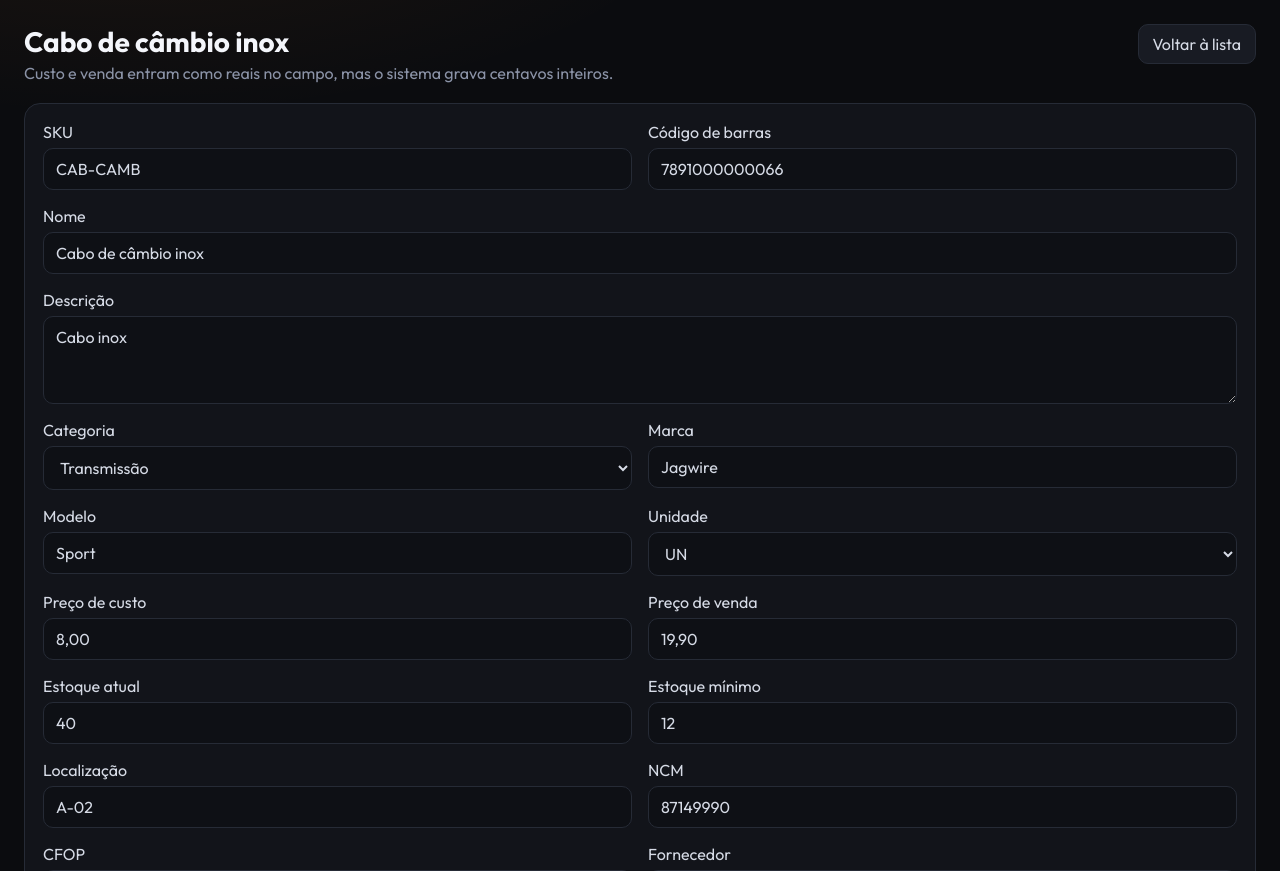
Ficha da peça › salva alterações sem voltar para a lista
Replace the text in the field labelled "Nome" with "Cabo inox revisado": [640, 253] box top-left (43, 232), bottom-right (1237, 274)
(page scrolled)
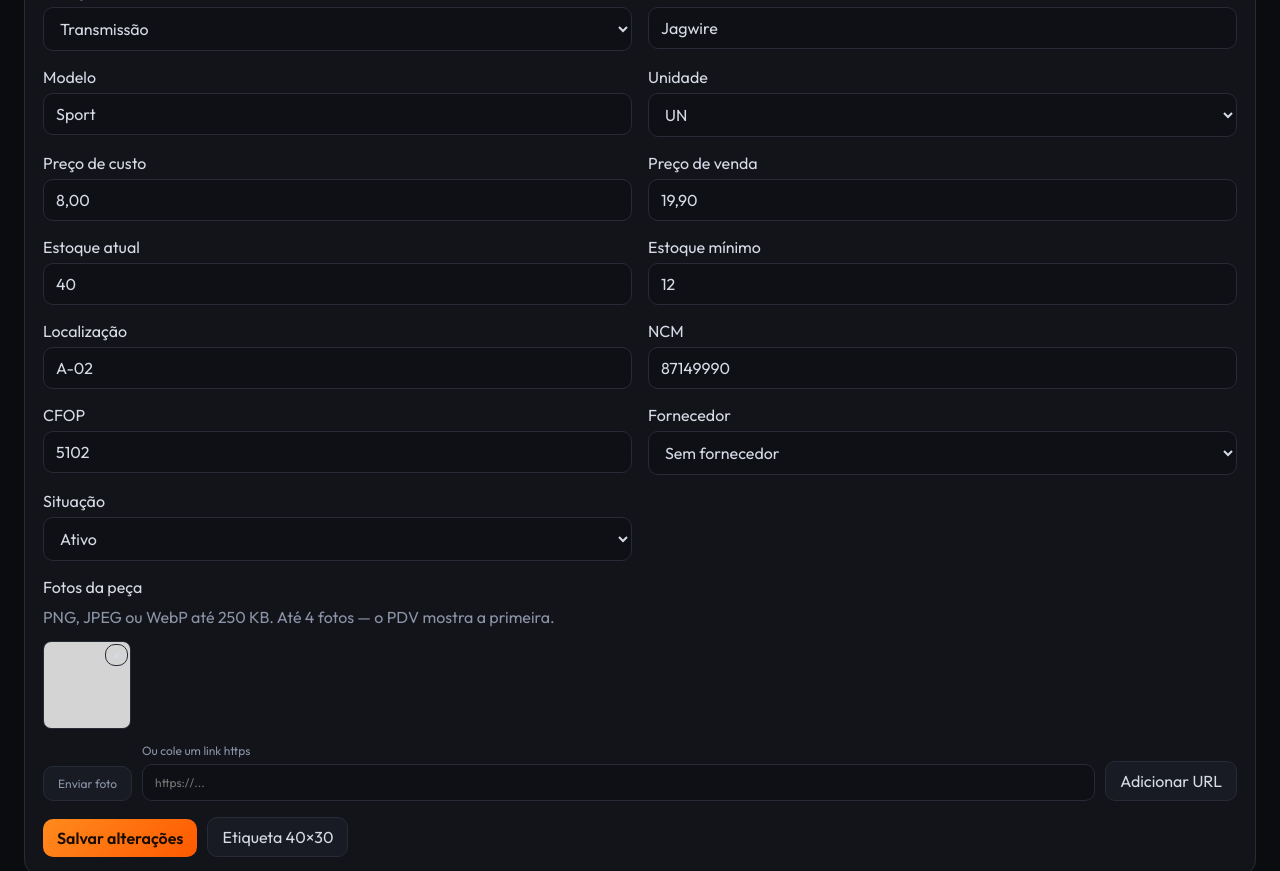
Click the button "Salvar alterações": [120, 838] box top-left (43, 819), bottom-right (198, 857)
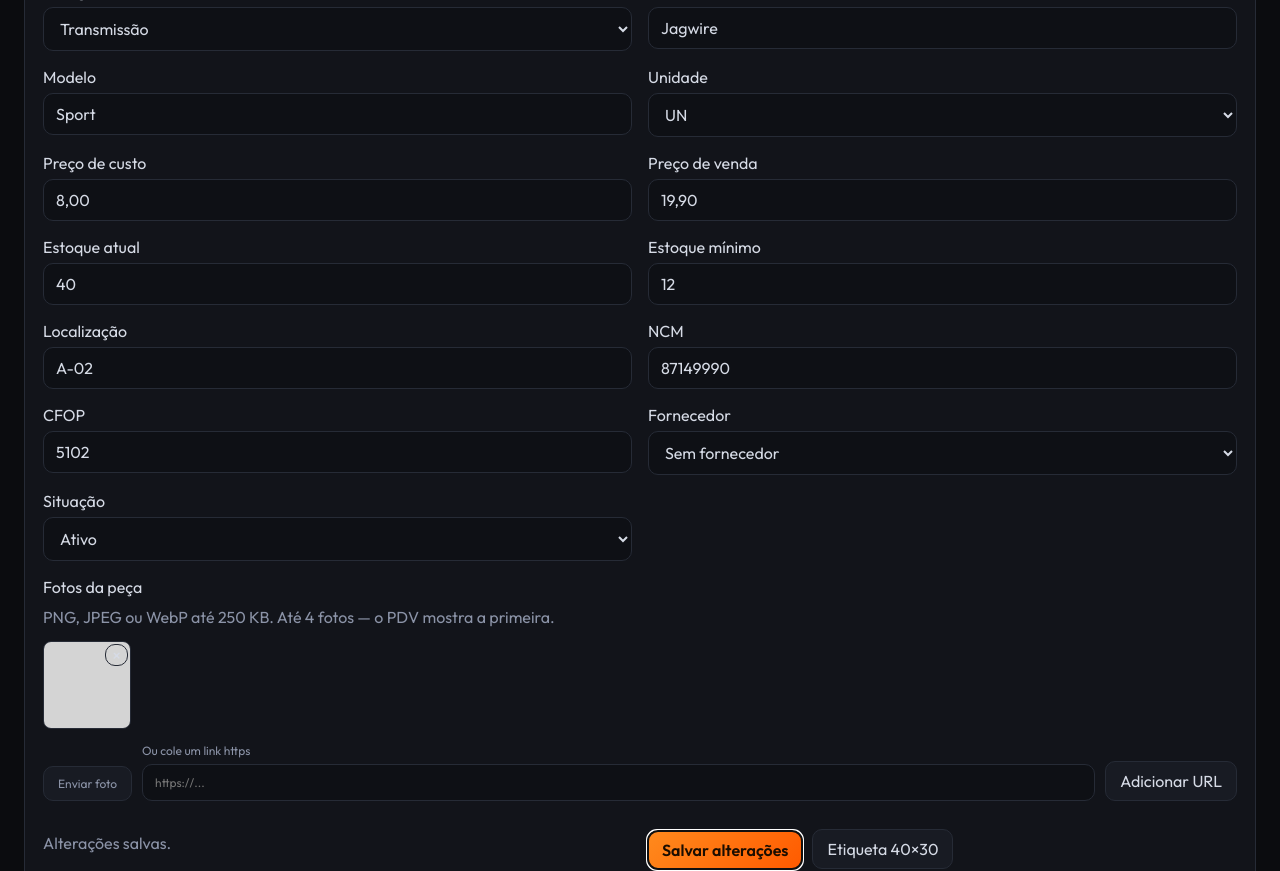
Result: the message reads "Alterações salvas." at top-left (43, 833), bottom-right (171, 853)
